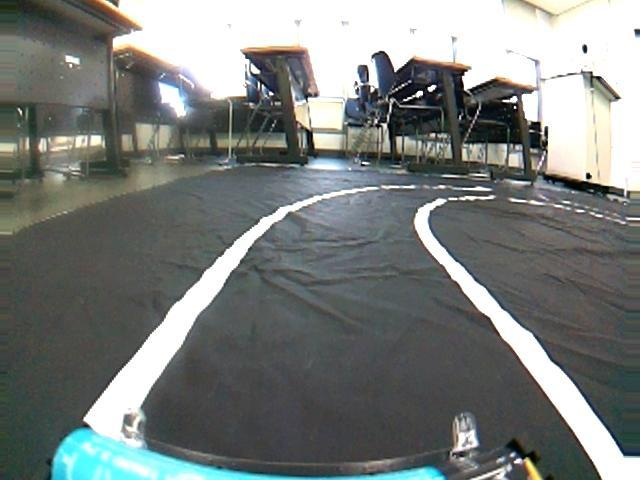straight: (5, 224, 628, 476)
